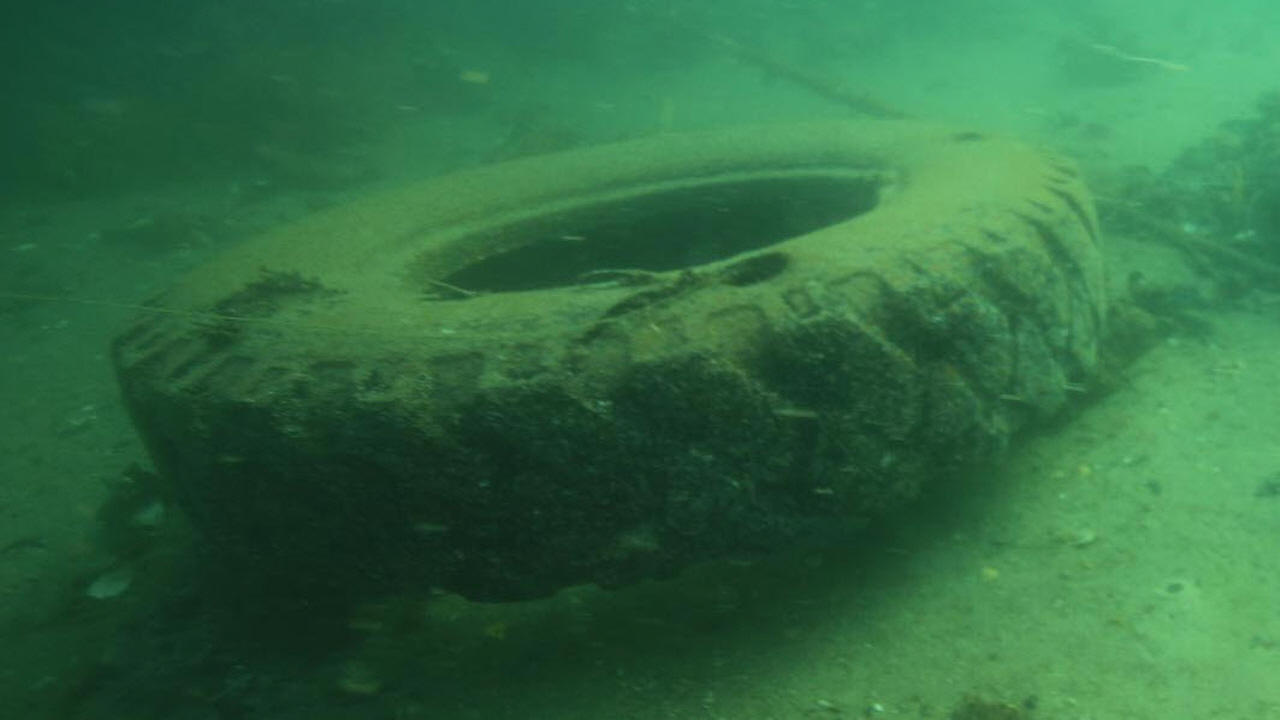tire: (110, 117, 1109, 593)
